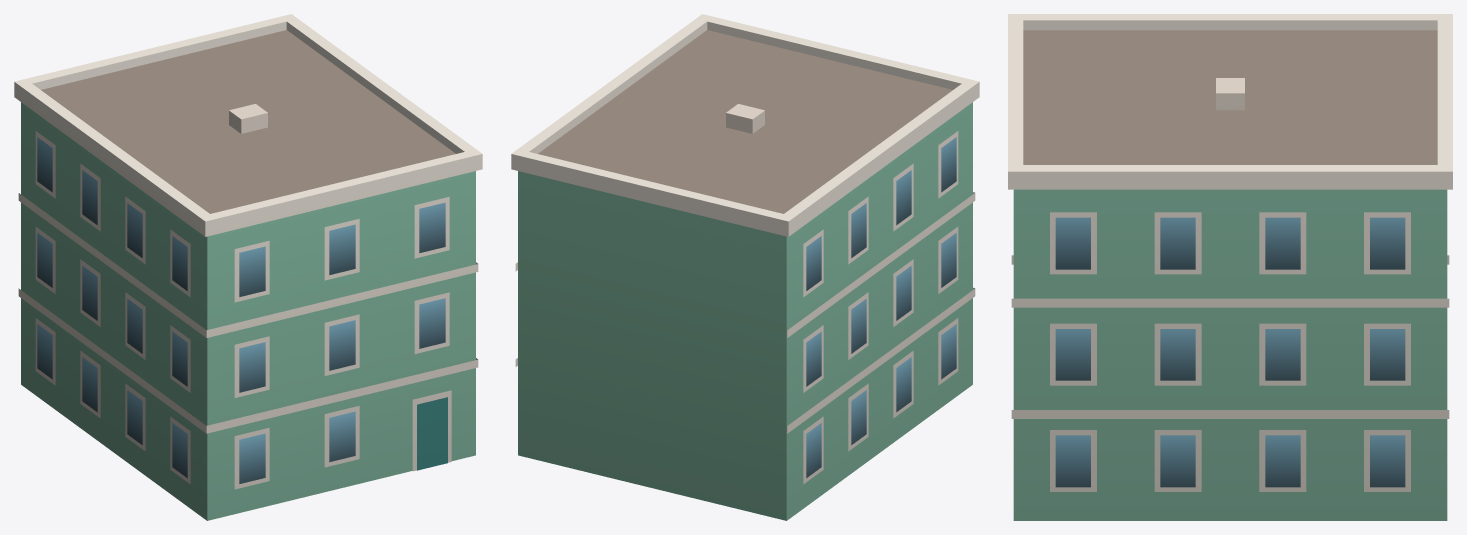
Rendered from vee_leftb0_far.glb.
3 views of the same model, side by side, from view 1: azimuth 30°, elevation 25°; view 2: azimuth 150°, elevation 25°; view 3: azimuth 270°, elevation 25° (orthographic). The views are drawn at different scales.
Visible parts, largest first — view 1: vee_leftb0_far; view 2: vee_leftb0_far; view 3: vee_leftb0_far.
Part boxes in pixels (x1=…): vee_leftb0_far: x1=14, y1=14, x2=482, y2=520; vee_leftb0_far: x1=511, y1=14, x2=979, y2=520; vee_leftb0_far: x1=1008, y1=14, x2=1452, y2=520.
Size of the model in its own units: 10.32 by 10.97 by 12.32.
Materials: 1 (1 with a texture image).
